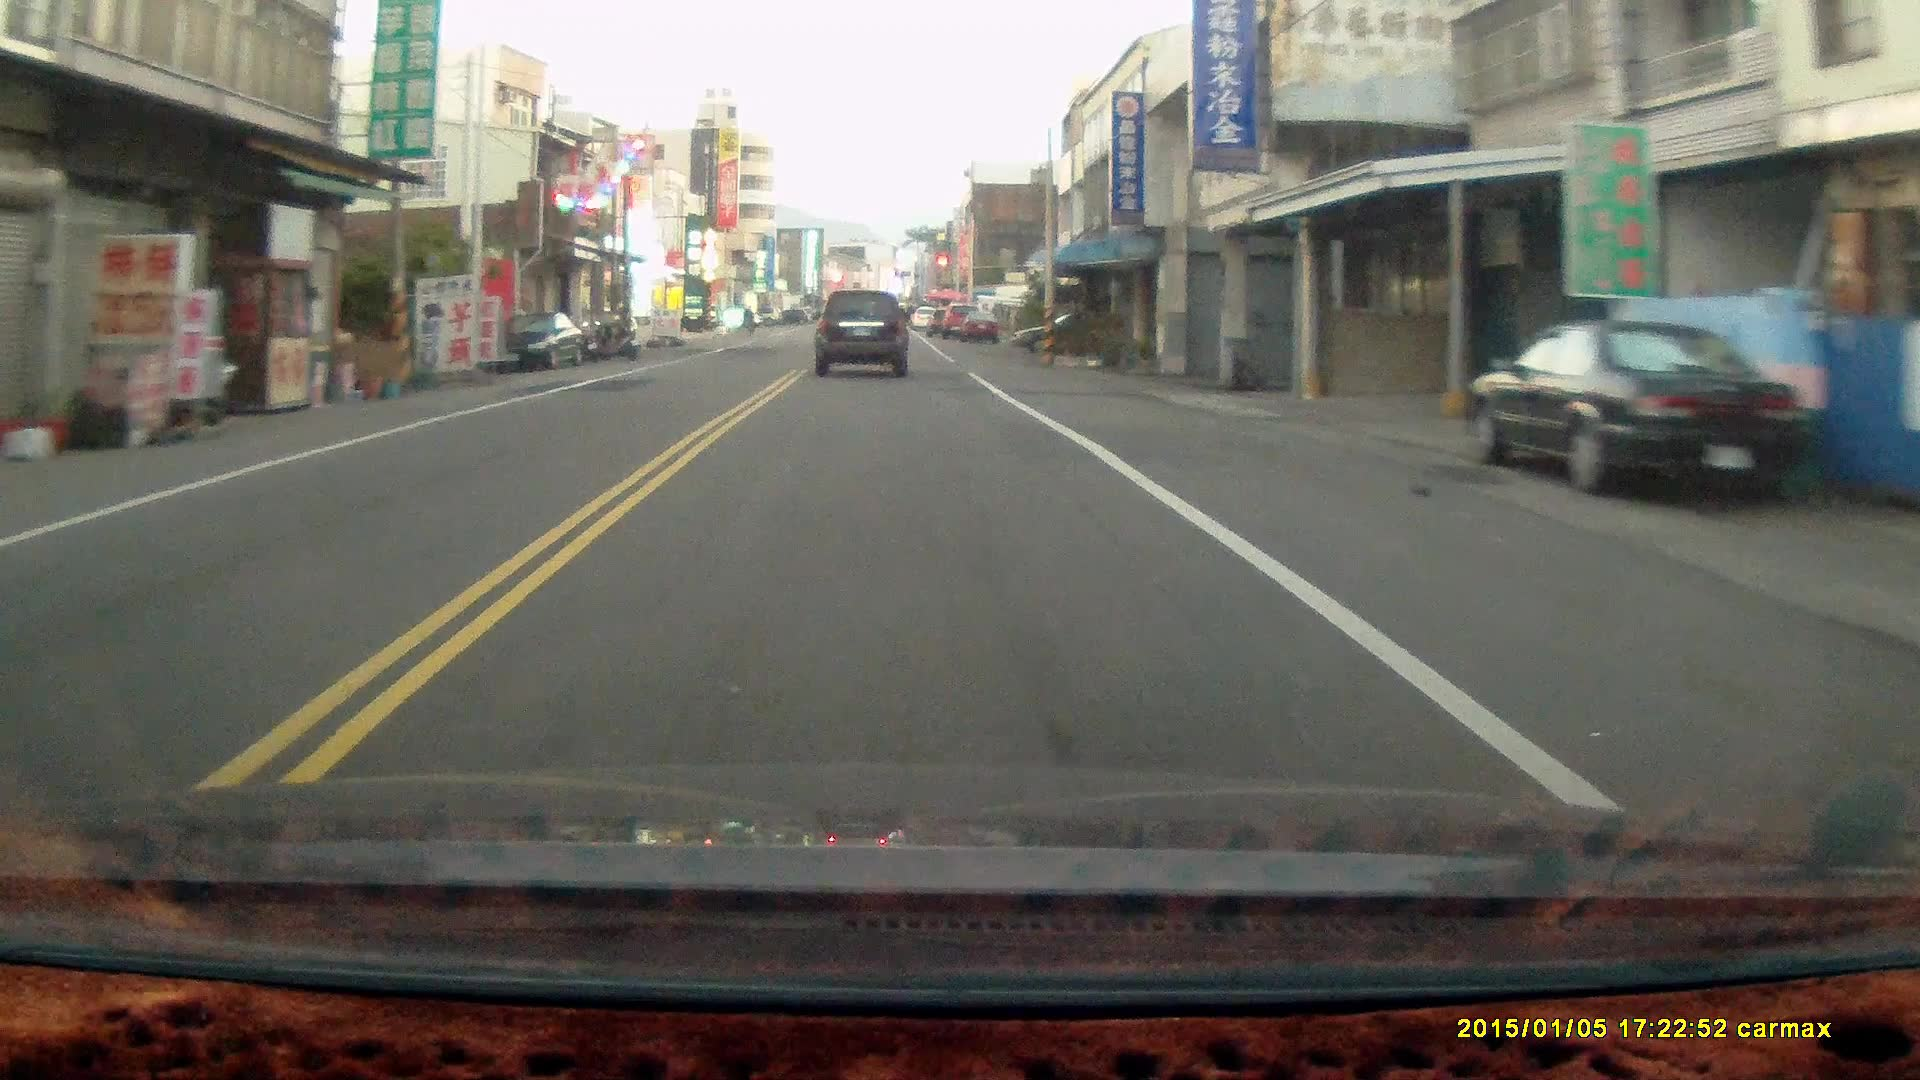vehicle: (1464, 316, 1828, 510), (814, 287, 910, 378)
